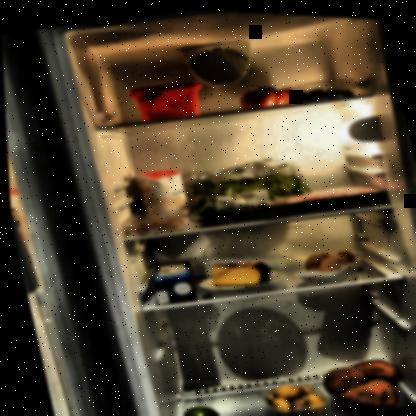apple: (167, 398, 221, 415)
blueberries: (283, 67, 364, 105)
butter: (122, 71, 205, 127)
cheese: (204, 251, 272, 291)
eggs: (294, 238, 362, 281)
ground_beef: (259, 172, 389, 220)
milk: (144, 255, 197, 307)
potato: (257, 373, 327, 415)
spinach: (176, 148, 314, 223)
sweet_potato: (312, 347, 409, 415)
tomato: (230, 73, 306, 113)
